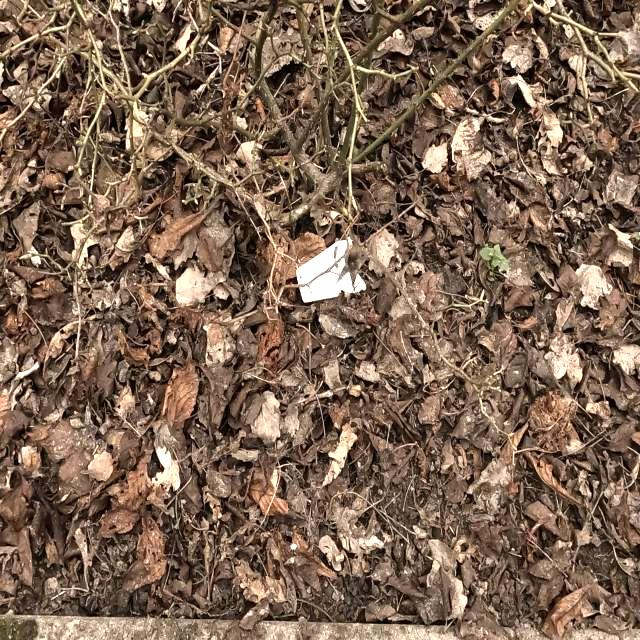Coffee Cup: (294, 239, 371, 301)
